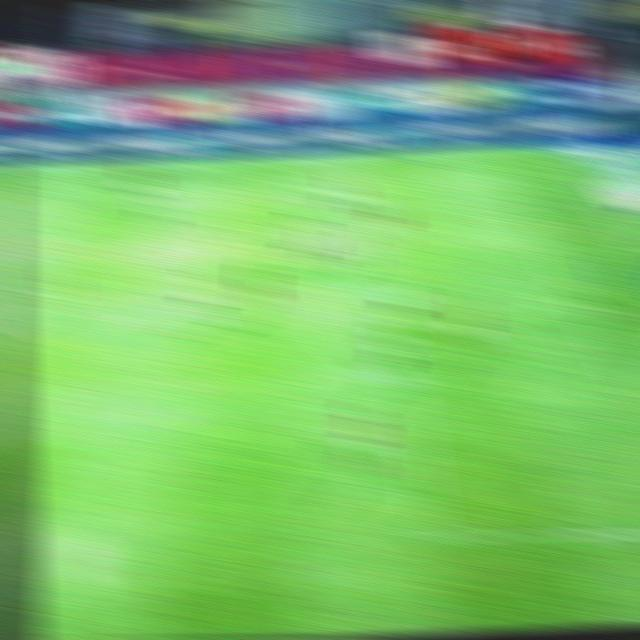bigarea_bottom_inner: (414, 518, 453, 553)
bigarea_top_outter: (581, 190, 609, 204)
bottom_arc_area_intersection: (387, 376, 418, 393)
corner: (538, 142, 574, 157)
smallarea_bottom_inner: (619, 380, 640, 407)
smallarea_top_inner: (539, 245, 569, 264)
smallarea_top_outter: (625, 239, 640, 258)
top_arc_area_intersection: (370, 262, 397, 279)
